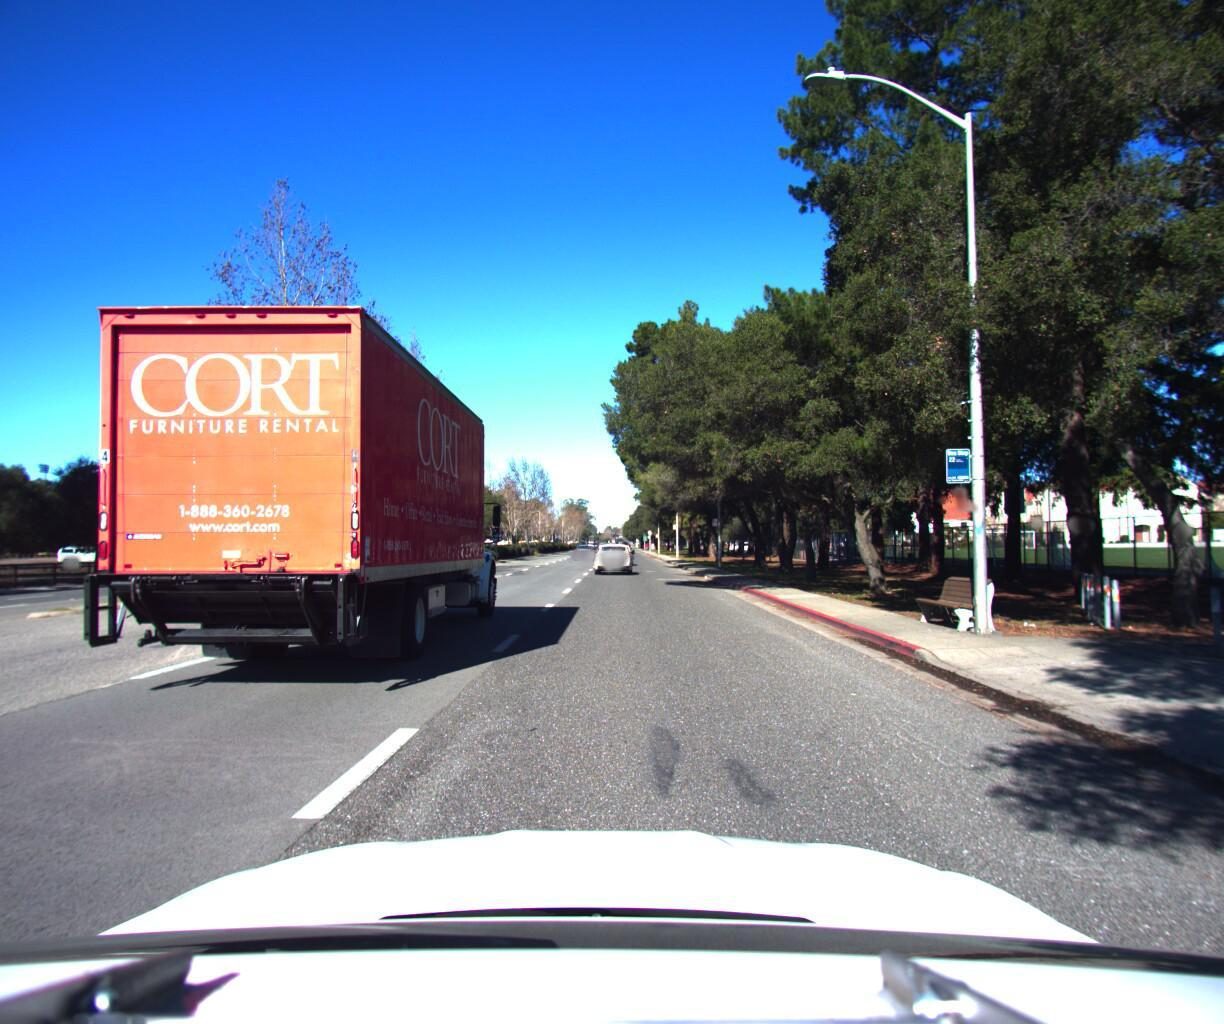car: (589, 534, 632, 567), (571, 534, 596, 552)
truck: (41, 274, 519, 696)
